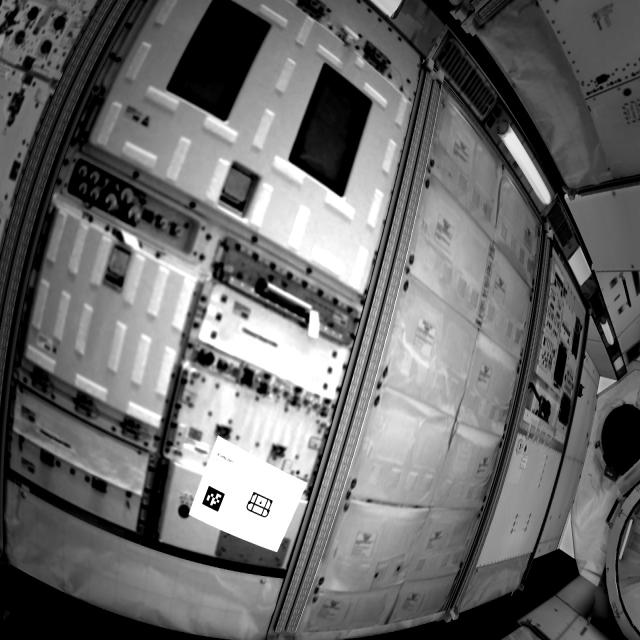treasure_box: (245, 492, 276, 521)
